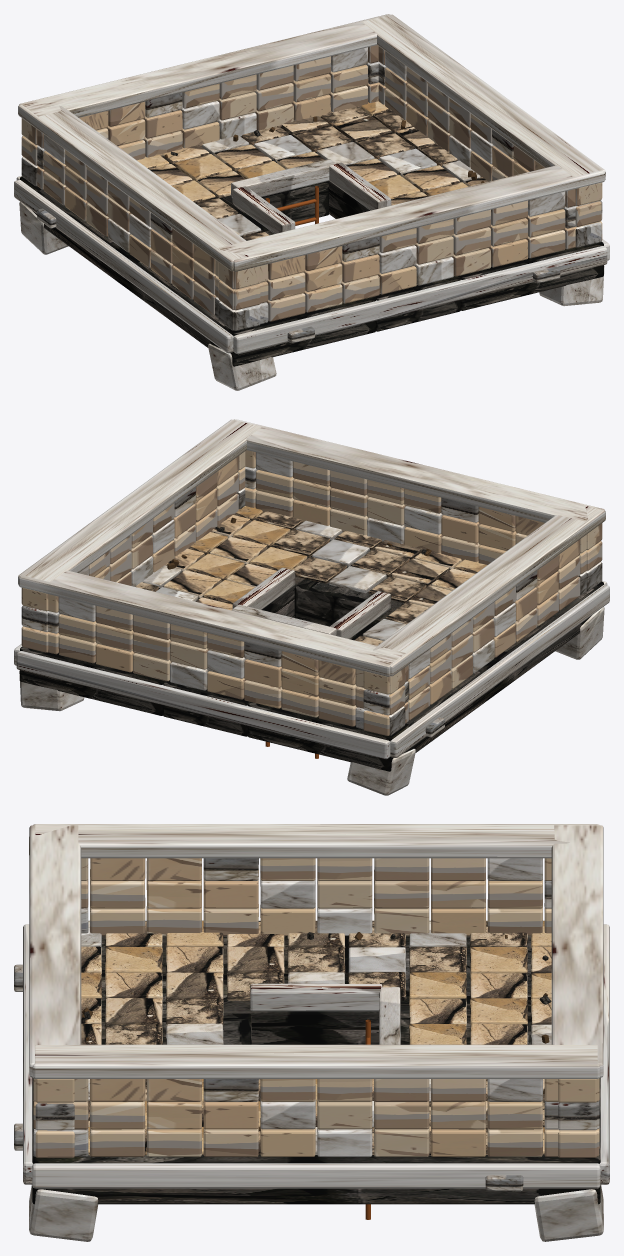
The model's file is fortress_tower_roof_platform_LOD0.glb.
3 renders of one model, top to bottom at view 1: azimuth 30°, elevation 25°; view 2: azimuth 150°, elevation 25°; view 3: azimuth 270°, elevation 25°, orthographic. The views are drawn at different scales.
Parts seen in each view (by area): view 1: RoofParapetCoping, RoofParapetCoping.001, RoofParapetCoping.003, RoofParapetCoping.002, RoofMarbleFascia, RoofStructuralSlabLeft, RoofMarbleFascia.002, RoofStructuralSlabRight, HatchCurbNorth, RoofCornerCorbel, RoofStructuralSlabSouth, RoofStructuralSlabNorth (+72 smaller); view 2: RoofParapetCoping.001, RoofParapetCoping, RoofParapetCoping.003, RoofParapetCoping.002, RoofMarbleFascia.001, RoofStructuralSlabLeft, RoofMarbleFascia.002, RoofStructuralSlabRight, RoofStructuralSlabSouth, RoofCornerCorbel.001, RoofStructuralSlabNorth, HatchCurbSide (+75 smaller); view 3: RoofParapetCoping.003, RoofParapetCoping.002, RoofMarbleFascia.003, RoofStructuralSlabRight, RoofParapetCoping.001, RoofParapetCoping, RoofStructuralSlabLeft, HatchCurbSide, RoofCornerCorbel.003, RoofCornerCorbel.002, RoofMarbleFascia, RoofMarbleFascia.001 (+90 smaller).
Boxes of the visible parts, x1=… form: RoofParapetCoping: x1=218, y1=165, x2=604, y2=271; RoofParapetCoping.001: x1=19, y1=14, x2=389, y2=117; RoofParapetCoping.003: x1=362, y1=14, x2=605, y2=179; RoofParapetCoping.002: x1=18, y1=105, x2=249, y2=271; RoofMarbleFascia: x1=233, y1=246, x2=607, y2=354; RoofStructuralSlabLeft: x1=20, y1=159, x2=375, y2=366; RoofMarbleFascia.002: x1=14, y1=180, x2=233, y2=352; RoofStructuralSlabRight: x1=288, y1=114, x2=603, y2=310; HatchCurbNorth: x1=231, y1=159, x2=335, y2=197; RoofCornerCorbel: x1=208, y1=343, x2=276, y2=390; RoofStructuralSlabSouth: x1=374, y1=275, x2=460, y2=331; RoofStructuralSlabNorth: x1=209, y1=143, x2=328, y2=221; RoofParapetCoping.001: x1=19, y1=570, x2=405, y2=676; RoofParapetCoping: x1=234, y1=419, x2=604, y2=522; RoofParapetCoping.003: x1=18, y1=419, x2=261, y2=585; RoofParapetCoping.002: x1=373, y1=506, x2=605, y2=676; RoofMarbleFascia.001: x1=16, y1=651, x2=390, y2=759; RoofStructuralSlabLeft: x1=248, y1=567, x2=603, y2=771; RoofMarbleFascia.002: x1=390, y1=585, x2=609, y2=757; RoofStructuralSlabRight: x1=20, y1=519, x2=334, y2=715; RoofStructuralSlabSouth: x1=294, y1=548, x2=414, y2=626; RoofCornerCorbel.001: x1=347, y1=749, x2=415, y2=795; RoofStructuralSlabNorth: x1=163, y1=680, x2=249, y2=736; HatchCurbSide: x1=330, y1=591, x2=391, y2=638; RoofParapetCoping.003: x1=32, y1=1044, x2=600, y2=1078; RoofParapetCoping.002: x1=33, y1=824, x2=599, y2=858; RoofMarbleFascia.003: x1=32, y1=1163, x2=600, y2=1188; RoofStructuralSlabRight: x1=32, y1=1077, x2=600, y2=1204; RoofParapetCoping.001: x1=551, y1=825, x2=603, y2=1077; RoofParapetCoping: x1=29, y1=825, x2=81, y2=1077; RoofStructuralSlabLeft: x1=88, y1=921, x2=531, y2=1044; HatchCurbSide: x1=250, y1=983, x2=382, y2=1011; RoofCornerCorbel.003: x1=534, y1=1185, x2=603, y2=1241; RoofCornerCorbel.002: x1=29, y1=1185, x2=98, y2=1241; RoofMarbleFascia: x1=23, y1=924, x2=32, y2=1184; RoofMarbleFascia.001: x1=600, y1=924, x2=609, y2=1184.
Size of the model in its own units: 6.76 by 3.19 by 6.66.
6 materials, 4 textured.
